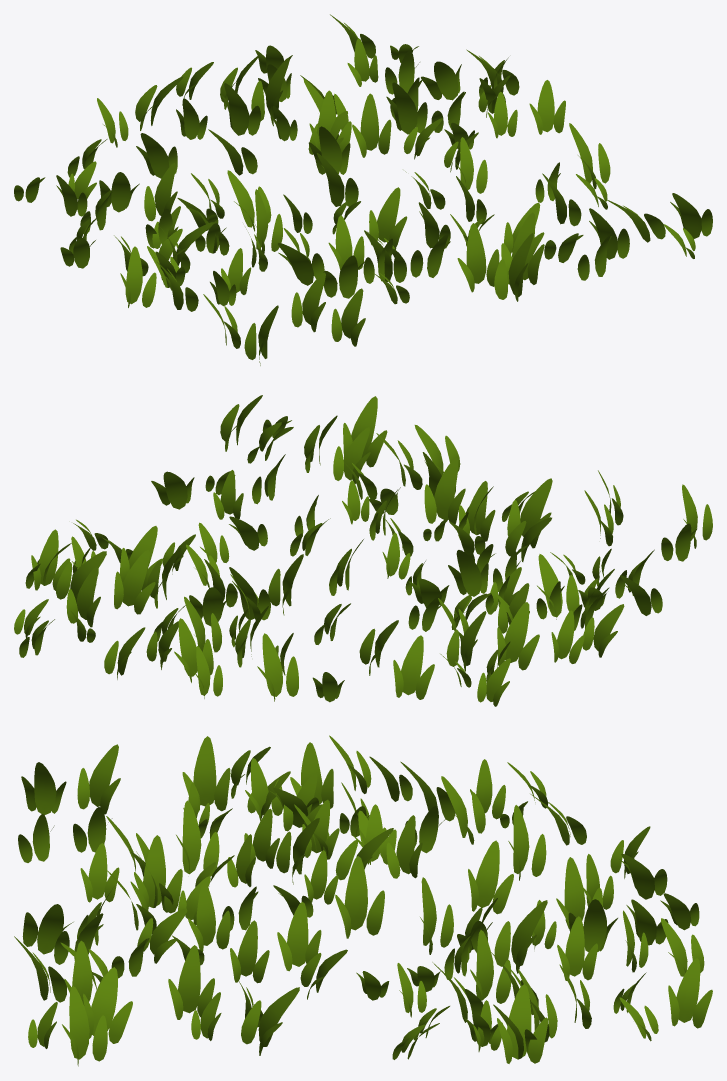
Rendered from Grass.fbx.
3 views of the same model, one above another, from view 1: azimuth 30°, elevation 25°; view 2: azimuth 150°, elevation 25°; view 3: azimuth 270°, elevation 25° (orthographic). The views are drawn at different scales.
Parts seen in each view (by area): view 1: Grass; view 2: Grass; view 3: Grass.
Part boxes in pixels (box(x1,y1,x2,y2)): Grass: box(14, 14, 712, 365); Grass: box(14, 395, 712, 706); Grass: box(14, 735, 712, 1066).
Size of the model in its own units: 6.26 by 0.6963 by 6.38.
